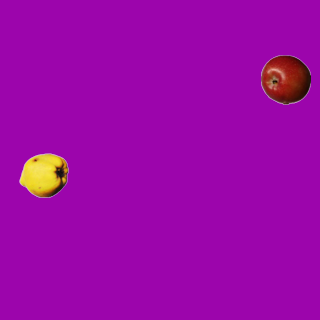Apple Braeburn: (260, 54, 310, 104)
Quince: (18, 150, 68, 200)
